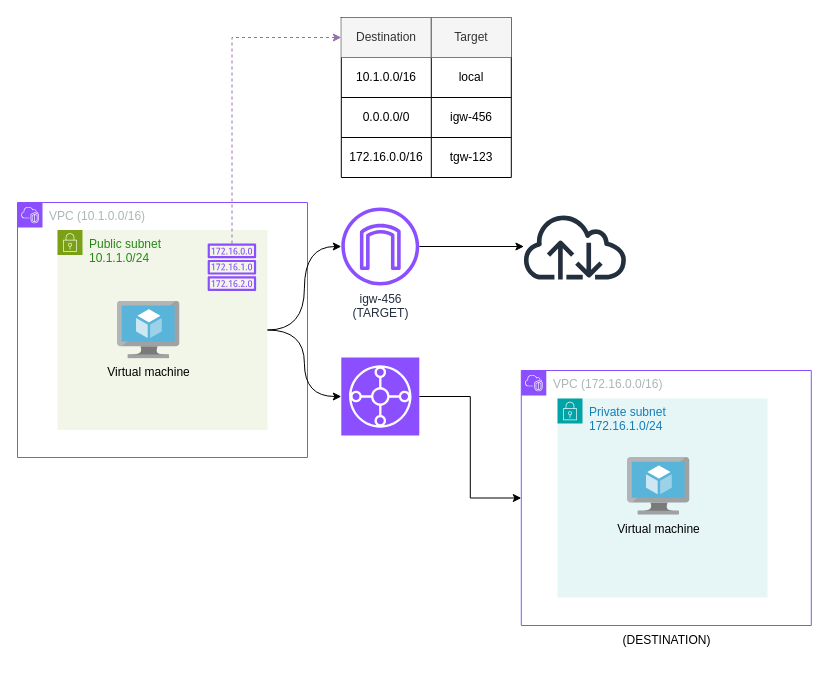
Some shapes in this 829 by 673 pixel diagram are drawn without their labels. The shapes that lost their labels are listed below. From the top down, each one's centre as x and y in pixels, then its label:
pixel 231 266: Route table
pixel 574 246: Public internet (DESTINATION)
pixel 379 396: tgw-123 (TARGET)
